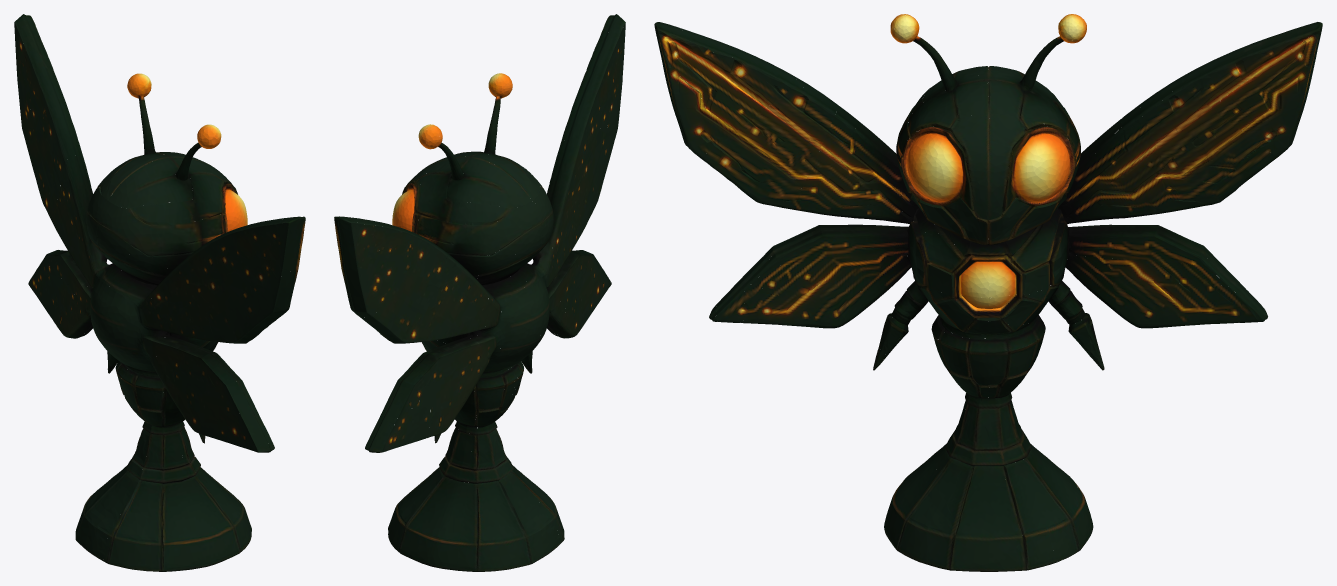
3 views of the same model, side by side, from view 1: azimuth 30°, elevation 25°; view 2: azimuth 150°, elevation 25°; view 3: azimuth 270°, elevation 25° (orthographic). The views are drawn at different scales.
Parts seen in each view (by area): view 1: tripo_node_9949a94a-7372-4776-9880-815f1517f4fc; view 2: tripo_node_9949a94a-7372-4776-9880-815f1517f4fc; view 3: tripo_node_9949a94a-7372-4776-9880-815f1517f4fc.
Boxes of the visible parts, x1,y1,x2,y2 form: tripo_node_9949a94a-7372-4776-9880-815f1517f4fc: (14,14,305,571); tripo_node_9949a94a-7372-4776-9880-815f1517f4fc: (334,14,625,571); tripo_node_9949a94a-7372-4776-9880-815f1517f4fc: (654,14,1322,571).
Bounding box in the file's own units: 0.3085 × 0.8631 × 0.9999.
Materials: 1 (1 with a texture image).
